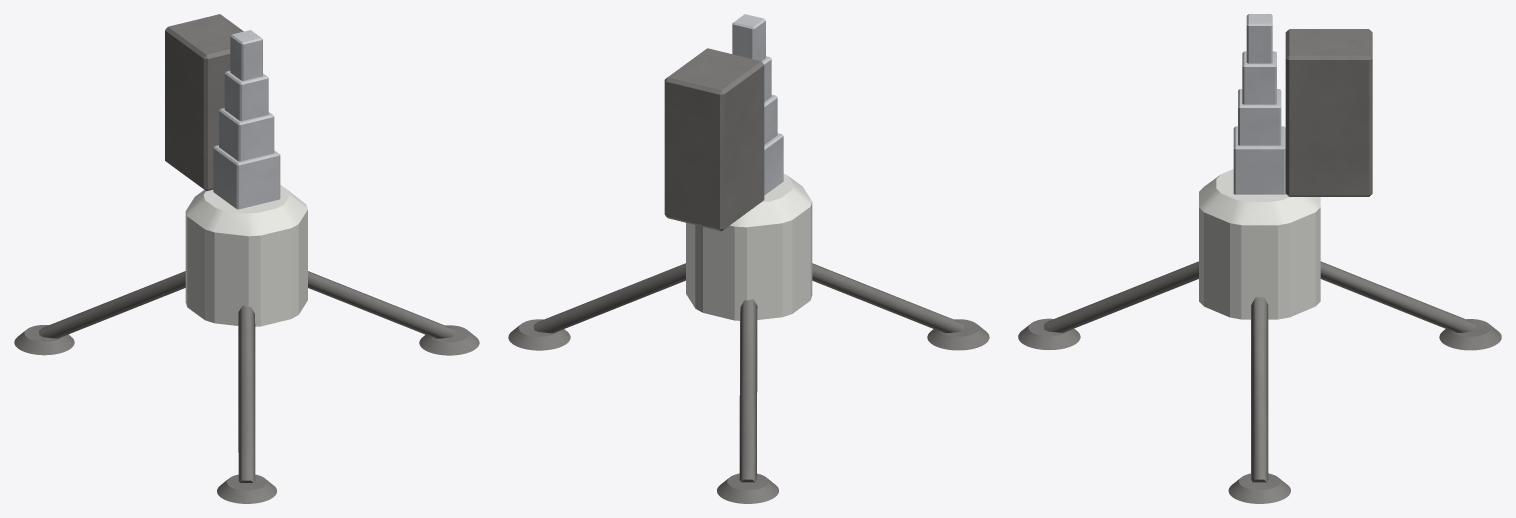
File: ax_power_18_solar_tower.glb
The picture shows the model from 3 angles, left to right: view 1: azimuth 30°, elevation 25°; view 2: azimuth 150°, elevation 25°; view 3: azimuth 270°, elevation 25°; orthographic projection. The views are drawn at different scales.
Visible parts, largest first — view 1: base, panel_array_stack, mast, tripod_legs, footpads; view 2: panel_array_stack, base, tripod_legs, footpads, mast; view 3: base, panel_array_stack, tripod_legs, mast, footpads.
Boxes of the visible parts, x1,y1,x2,y2 form: base: (185,185,307,326); panel_array_stack: (165,14,243,191); mast: (213,30,280,209); tripod_legs: (39,271,455,482); footpads: (14,325,479,503); panel_array_stack: (664,48,764,231); base: (686,173,812,320); tripod_legs: (533,263,964,482); footpads: (508,319,989,503); mast: (732,14,783,195); base: (1199,169,1320,319); panel_array_stack: (1285,29,1372,196); tripod_legs: (1043,261,1476,482); mast: (1233,14,1285,194); footpads: (1018,318,1501,503).
Size of the model in its own units: 2.46 by 2.35 by 2.79.
Materials: 3 (2 with a texture image).
